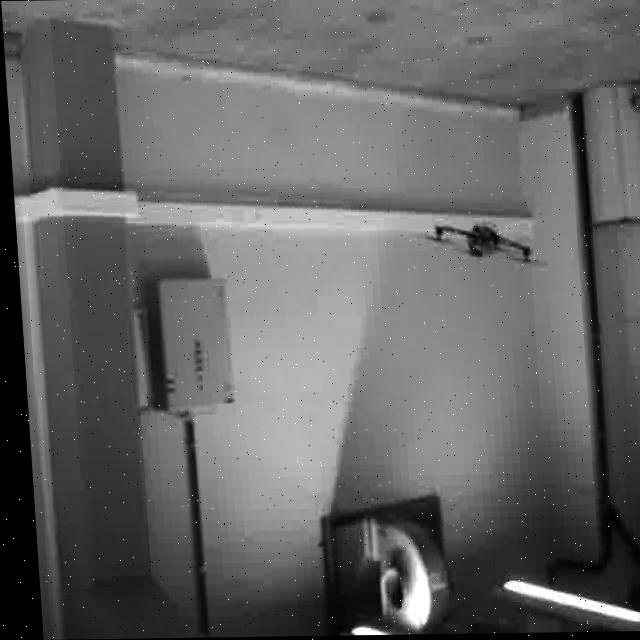drone: (427, 221, 530, 272)
